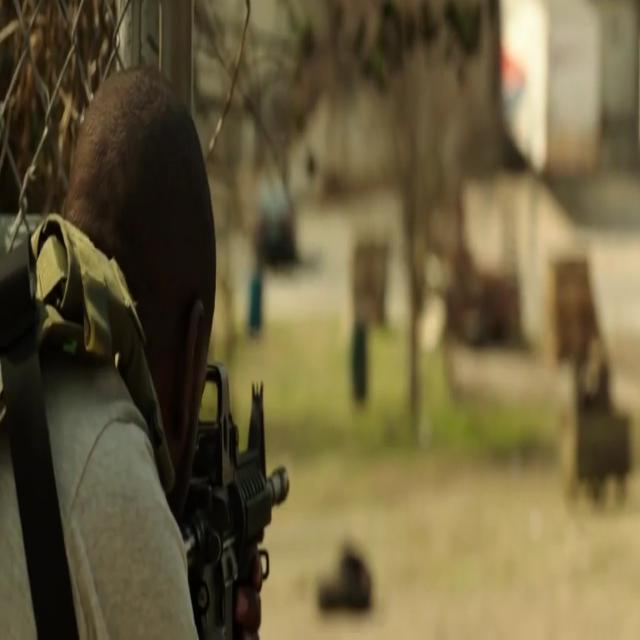Weapon: (171, 349, 305, 640)
